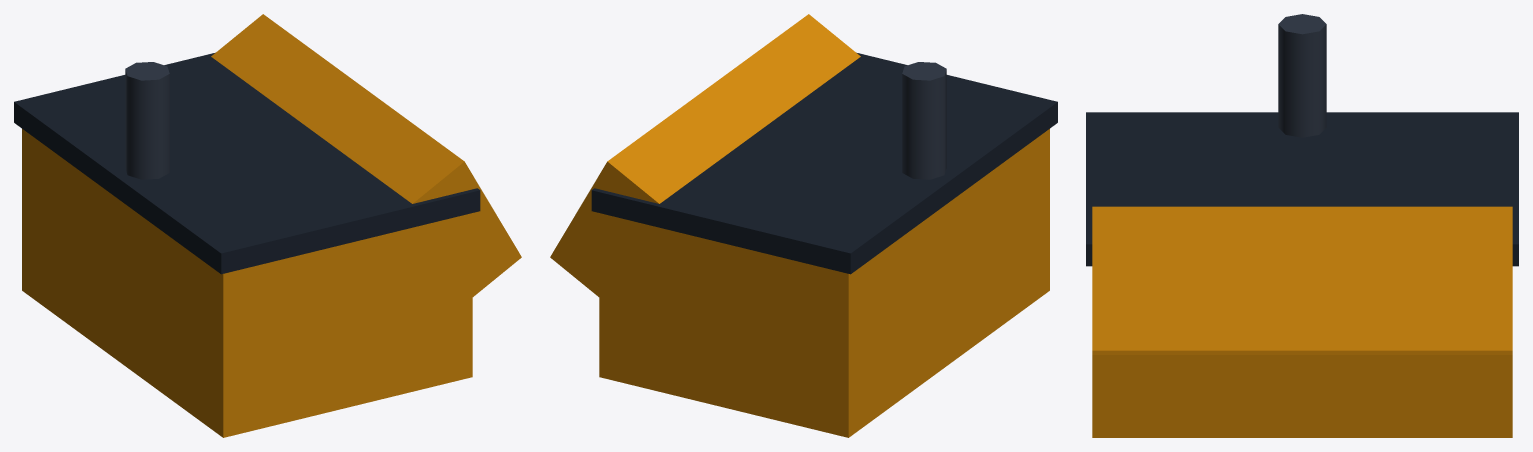
File: wheel-chock-body-crafted-surface.glb
3 renders of one model, left to right at view 1: azimuth 30°, elevation 25°; view 2: azimuth 150°, elevation 25°; view 3: azimuth 270°, elevation 25°, orthographic. The views are drawn at different scales.
Visible parts, largest first — view 1: Authored shadows false:false; view 2: Authored shadows false:false; view 3: Authored shadows false:false.
Boxes of the visible parts, left/top/right/bottom form: Authored shadows false:false: left=14, top=14, right=521, bottom=437; Authored shadows false:false: left=550, top=14, right=1057, bottom=437; Authored shadows false:false: left=1086, top=14, right=1518, bottom=437.
Bounding box in the file's own units: 0.8461 × 0.7639 × 1.
